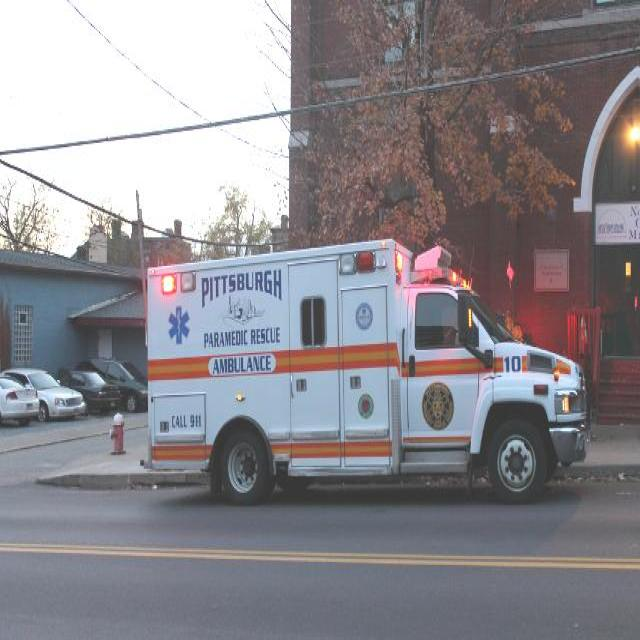emergency-vehicle: (146, 240, 590, 506)
